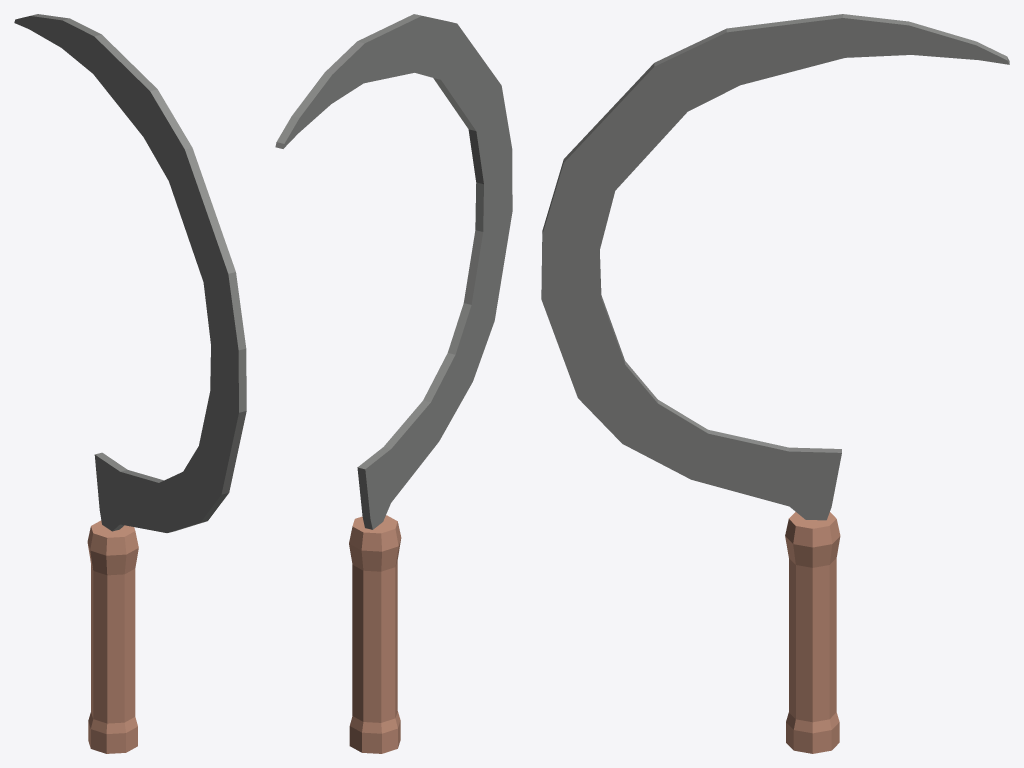
File: Sickle.glb
3 views of the same model, side by side, from view 1: azimuth 30°, elevation 25°; view 2: azimuth 150°, elevation 25°; view 3: azimuth 270°, elevation 25° (orthographic). The views are drawn at different scales.
Parts seen in each view (by area): view 1: Sickle; view 2: Sickle; view 3: Sickle.
Boxes of the visible parts, x1,y1,x2,y2 form: Sickle: (14,14,246,753); Sickle: (275,14,512,753); Sickle: (541,14,1009,753).
Size of the model in its own units: 5.99 by 86.57 by 50.57.
